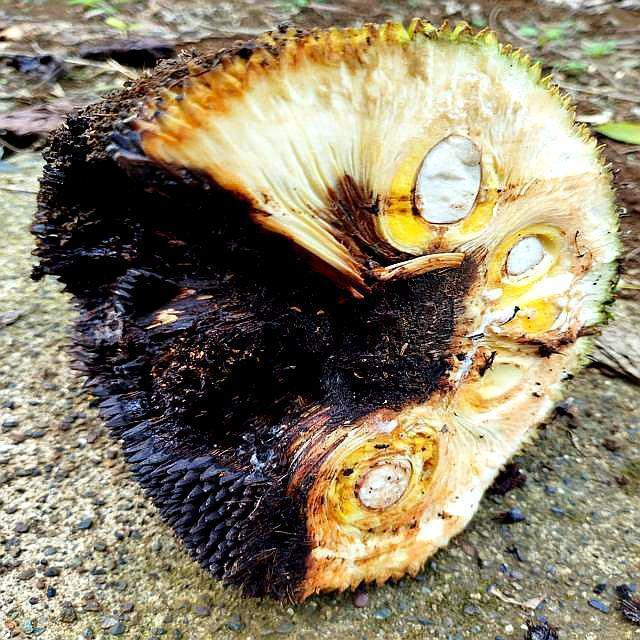Biodegradable: (31, 51, 605, 595)
